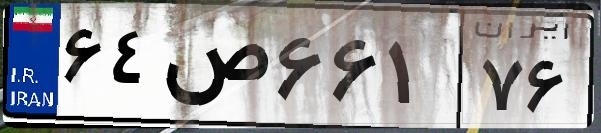1: (385, 28, 445, 110)
4: (110, 28, 158, 98)
6: (270, 28, 330, 110), (330, 28, 385, 110), (57, 26, 110, 100), (525, 38, 570, 115)
7: (475, 38, 525, 113)
ص: (158, 20, 270, 120)
